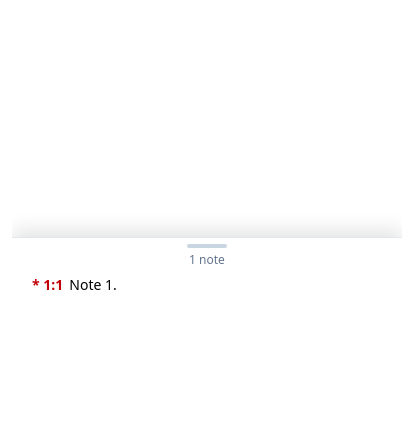
Test: ChapterNotes › theHandleCyclesTheSizeAndRemembersIt
Click the button with aria-label "Resize the notes": coordinates (207, 256) [12,238,402,274]
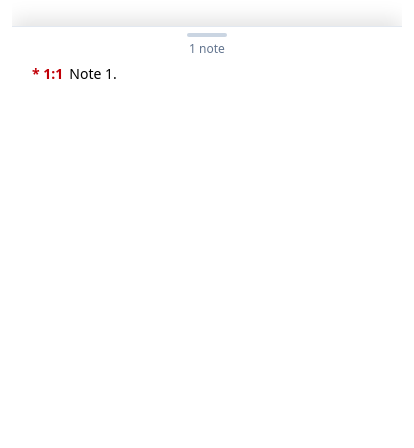
Check: the element showing "1 note * 1:1 Note 1." has attribute data-size="half"
Click the button with aria-label "Resize the notes": coordinates (207, 45) [12,27,402,63]
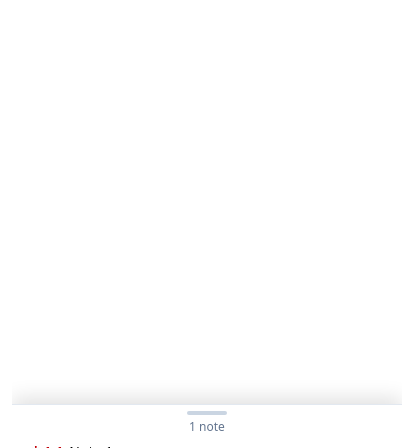
Check: the element showing "1 note * 1:1 Note 1." has attribute data-size="bar", box [12,404,402,447]
